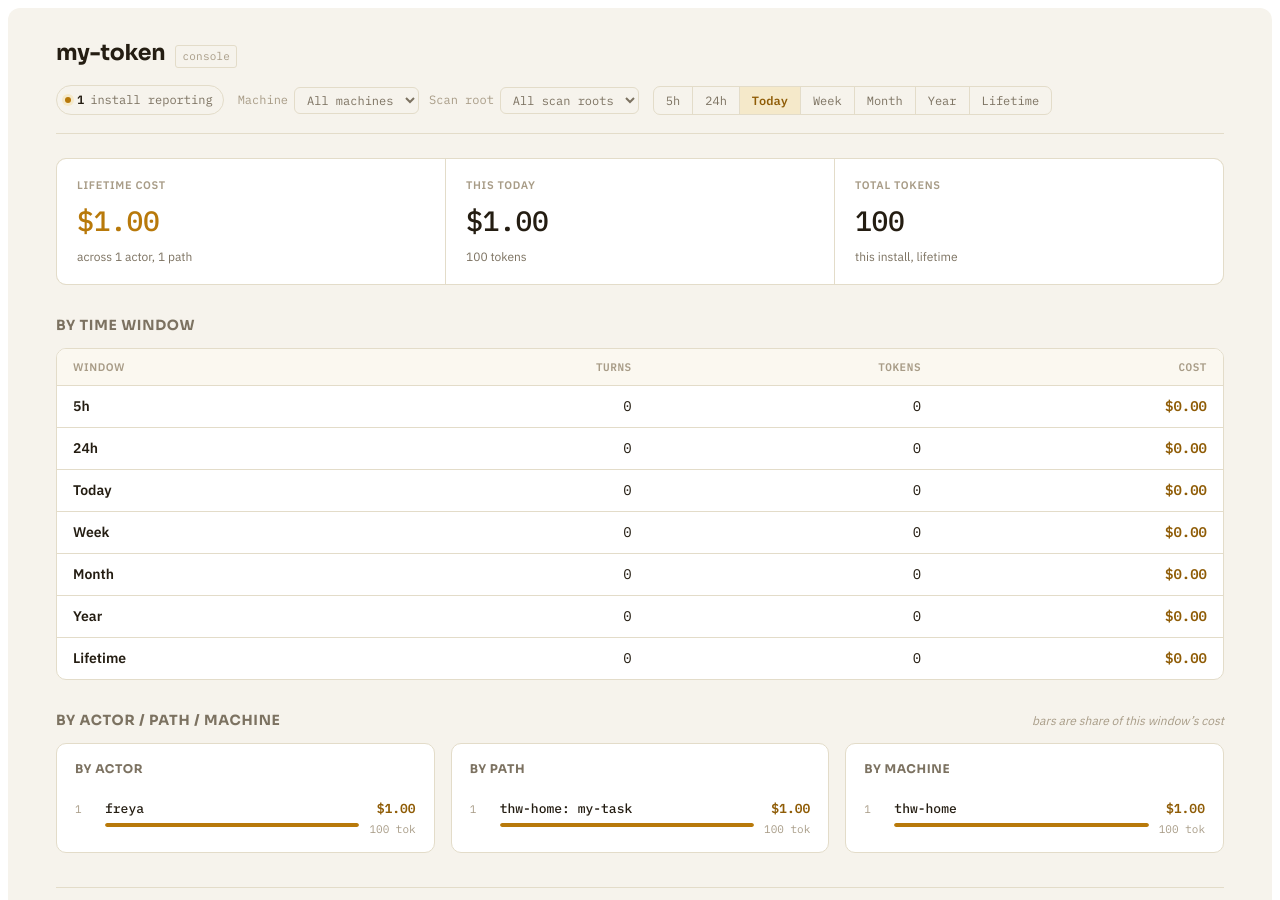
Test case: UsagePage — machine/scan-root filters (story-2/ticket-11) › selecting a machine filter narrows all three breakdown panels' rendered rows, not just 'By machine'
Expected: the text "freya" is shown, [105, 800, 144, 817]
Expected: the text titled "install-a:/home/thw-home/gits/my-task" is shown, [500, 800, 632, 817]
Select "thw-home" in the dropdown named "Filter by machine" at (356, 100), box [294, 86, 419, 114]
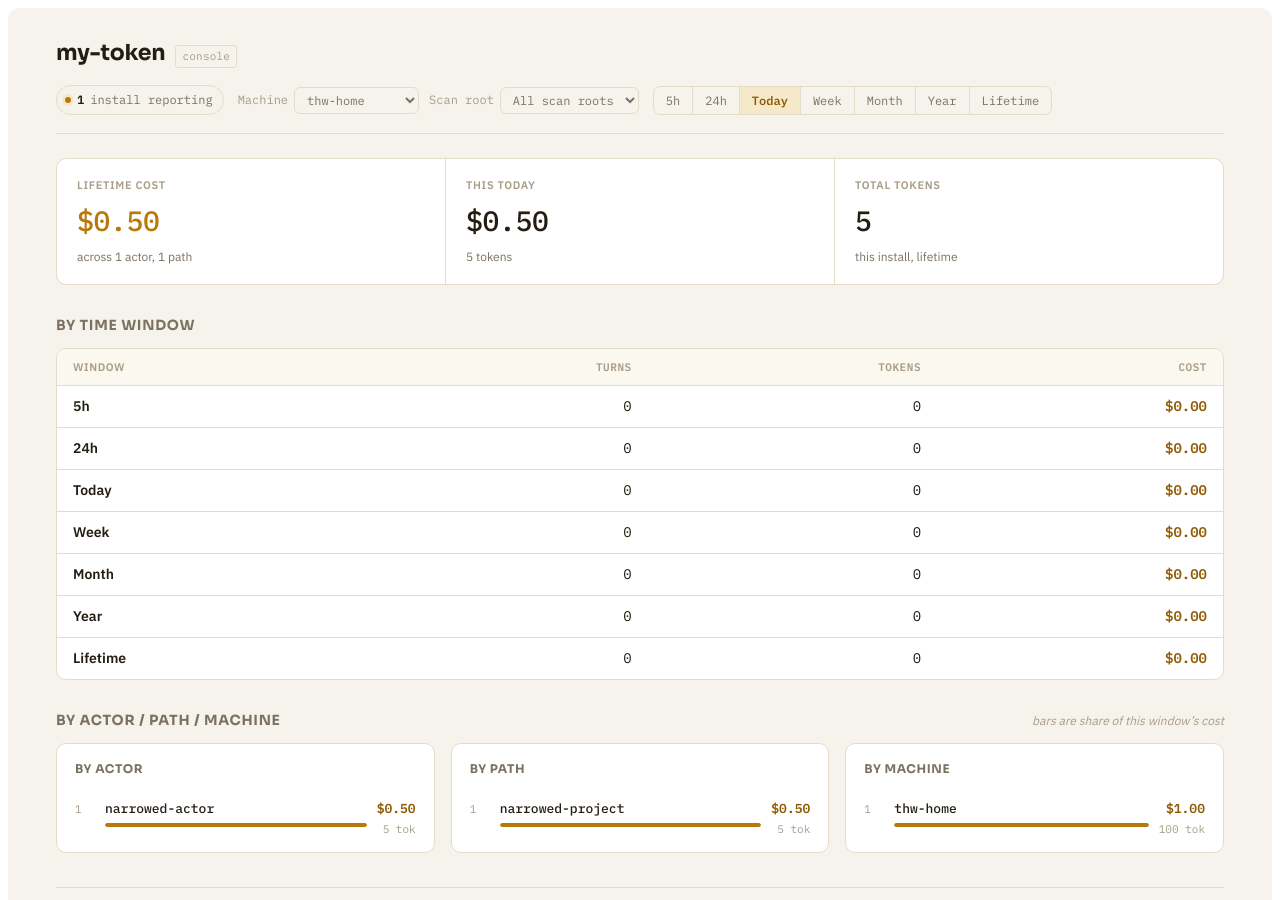
Expected: the text "narrowed-actor" is shown, [105, 800, 214, 817]
Expected: the text "freya" is gone
Expected: the text titled "install-a:/home/narrowed-project" is shown, [500, 800, 624, 817]
